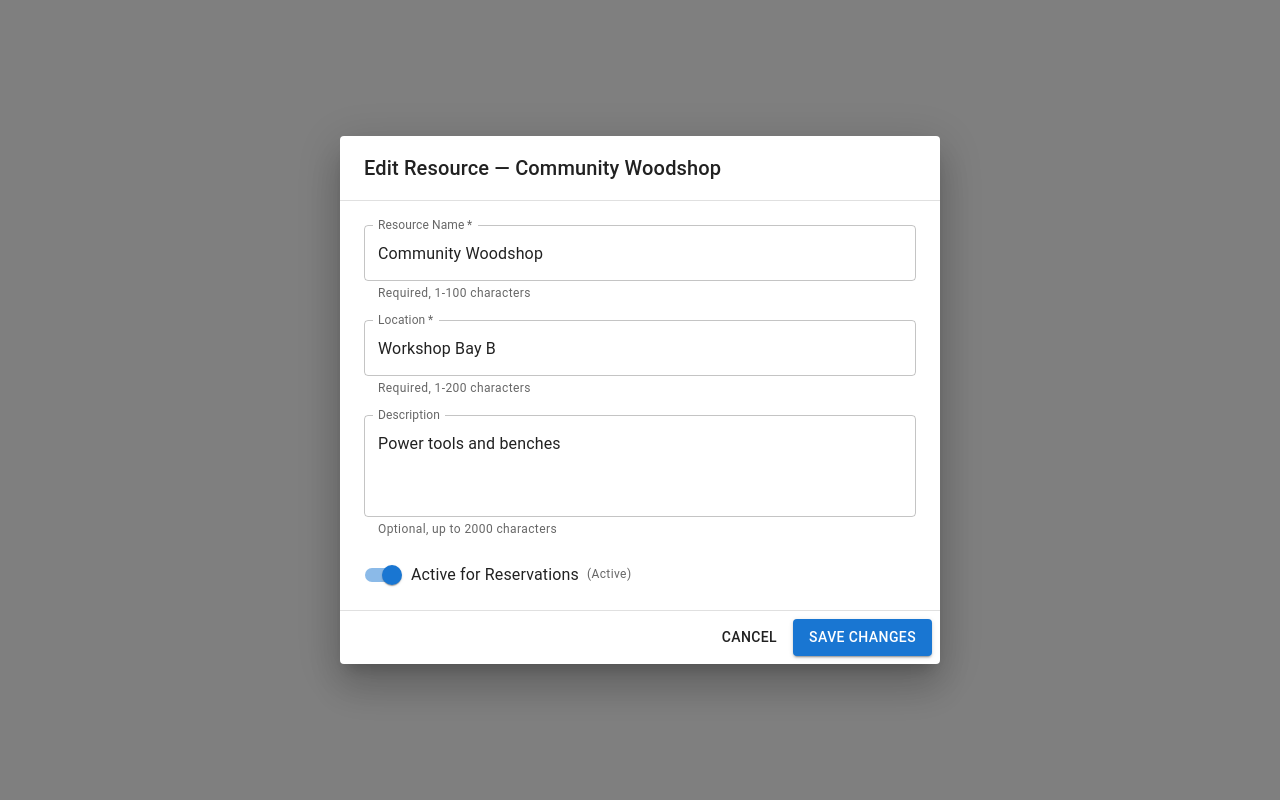
Test: Admin Inventory — Resources (Spec 7.1, 4.2 E17-E20) › surfaces 412 VERSION_MISMATCH on edit by refetching and alerting user without silent overwrite
The image size is (1280, 800).
Click the button "Save Changes". click: [863, 637]
box: [793, 619, 932, 656]
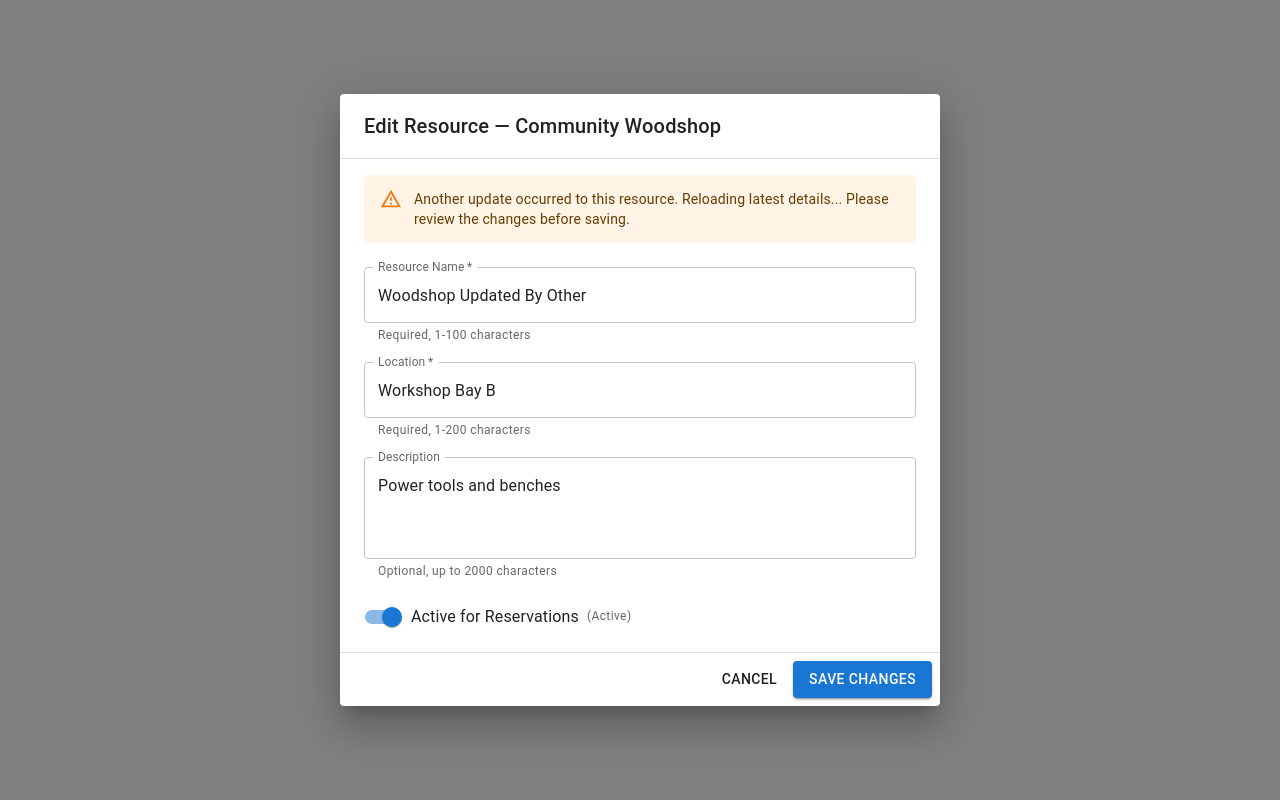
Check: the text "Another update occurred to this resource" is shown, box [414, 191, 889, 227]
